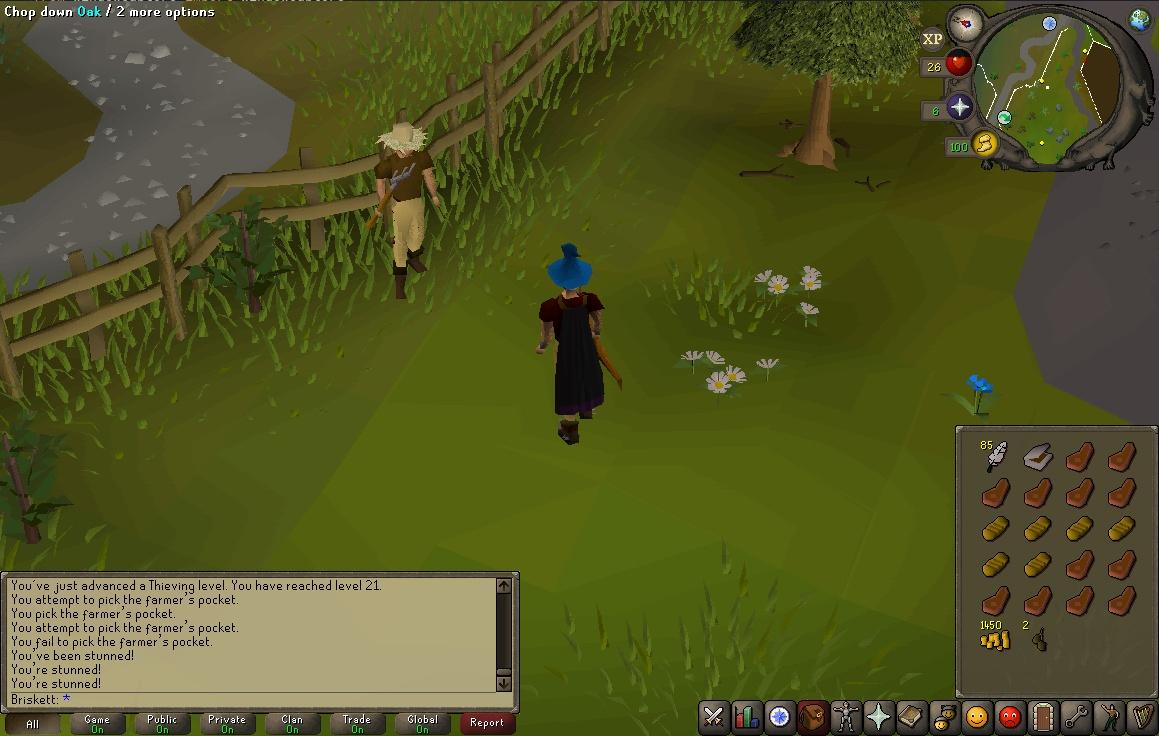Farmer: (365, 115, 443, 301)
